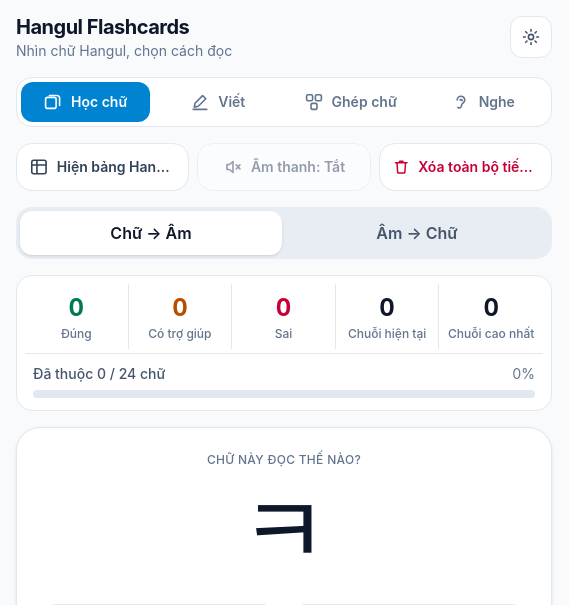
ListeningSection › offers three levels and starts on single words
The width and height of the screenshot is (569, 605).
Click the button "Nghe" at (483, 102), box [418, 82, 547, 122]
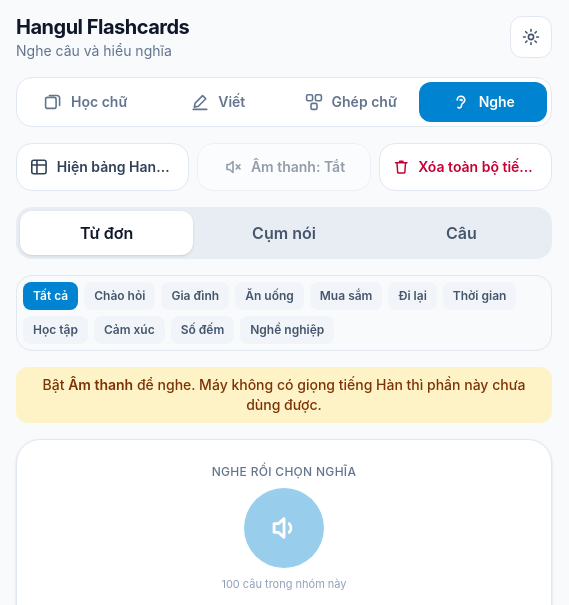
Check: the tab "Cụm nói" is shown, box [197, 211, 371, 255]
Check: the tab "Câu" is shown, box [375, 211, 548, 255]
